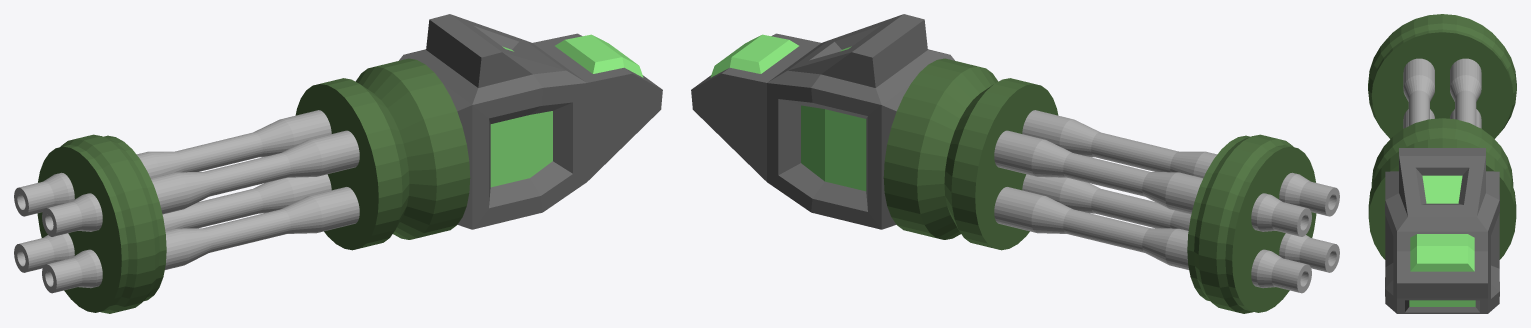
The model's file is miniGun.fbx.
The picture shows the model from 3 angles, left to right: view 1: azimuth 30°, elevation 25°; view 2: azimuth 150°, elevation 25°; view 3: azimuth 270°, elevation 25°; orthographic projection. The views are drawn at different scales.
Visible parts, largest first — view 1: BaseMuzzle, Handle, Muzzles; view 2: BaseMuzzle, Handle, Muzzles; view 3: Handle, BaseMuzzle, Muzzles.
Part boxes in pixels (x1,y1,x2,y2): BaseMuzzle: (37,58,470,313); Handle: (399,14,662,229); Muzzles: (14,110,359,293); BaseMuzzle: (883,58,1316,313); Handle: (691,14,954,229); Muzzles: (994,110,1339,293); Handle: (1385,148,1499,313); BaseMuzzle: (1368,14,1516,259); Muzzles: (1403,58,1481,128).
Bounding box in the file's own units: 1266 × 365 × 327.
